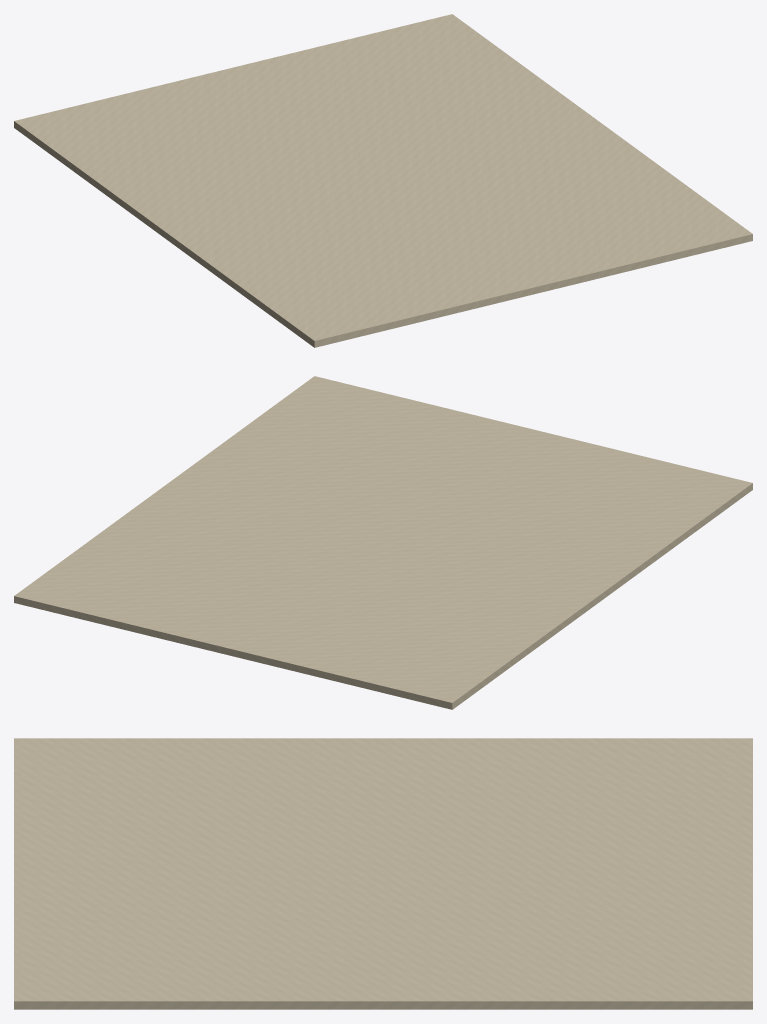
The model's file is COURT_D09_PF_04__floor.glb.
3 renders of one model, top to bottom at view 1: azimuth 30°, elevation 25°; view 2: azimuth 150°, elevation 25°; view 3: azimuth 270°, elevation 25°, orthographic. The views are drawn at different scales.
Parts seen in each view (by area): view 1: COURT_D09_PF_04__floor__warm_stone; view 2: COURT_D09_PF_04__floor__warm_stone; view 3: COURT_D09_PF_04__floor__warm_stone.
Part boxes in pixels (<box>): COURT_D09_PF_04__floor__warm_stone: <box>14,14,752,347</box>; COURT_D09_PF_04__floor__warm_stone: <box>14,376,752,709</box>; COURT_D09_PF_04__floor__warm_stone: <box>14,738,752,1009</box>.
Bounding box in the file's own units: 16 × 0.24 × 19.
Materials: 1 (1 with a texture image).
